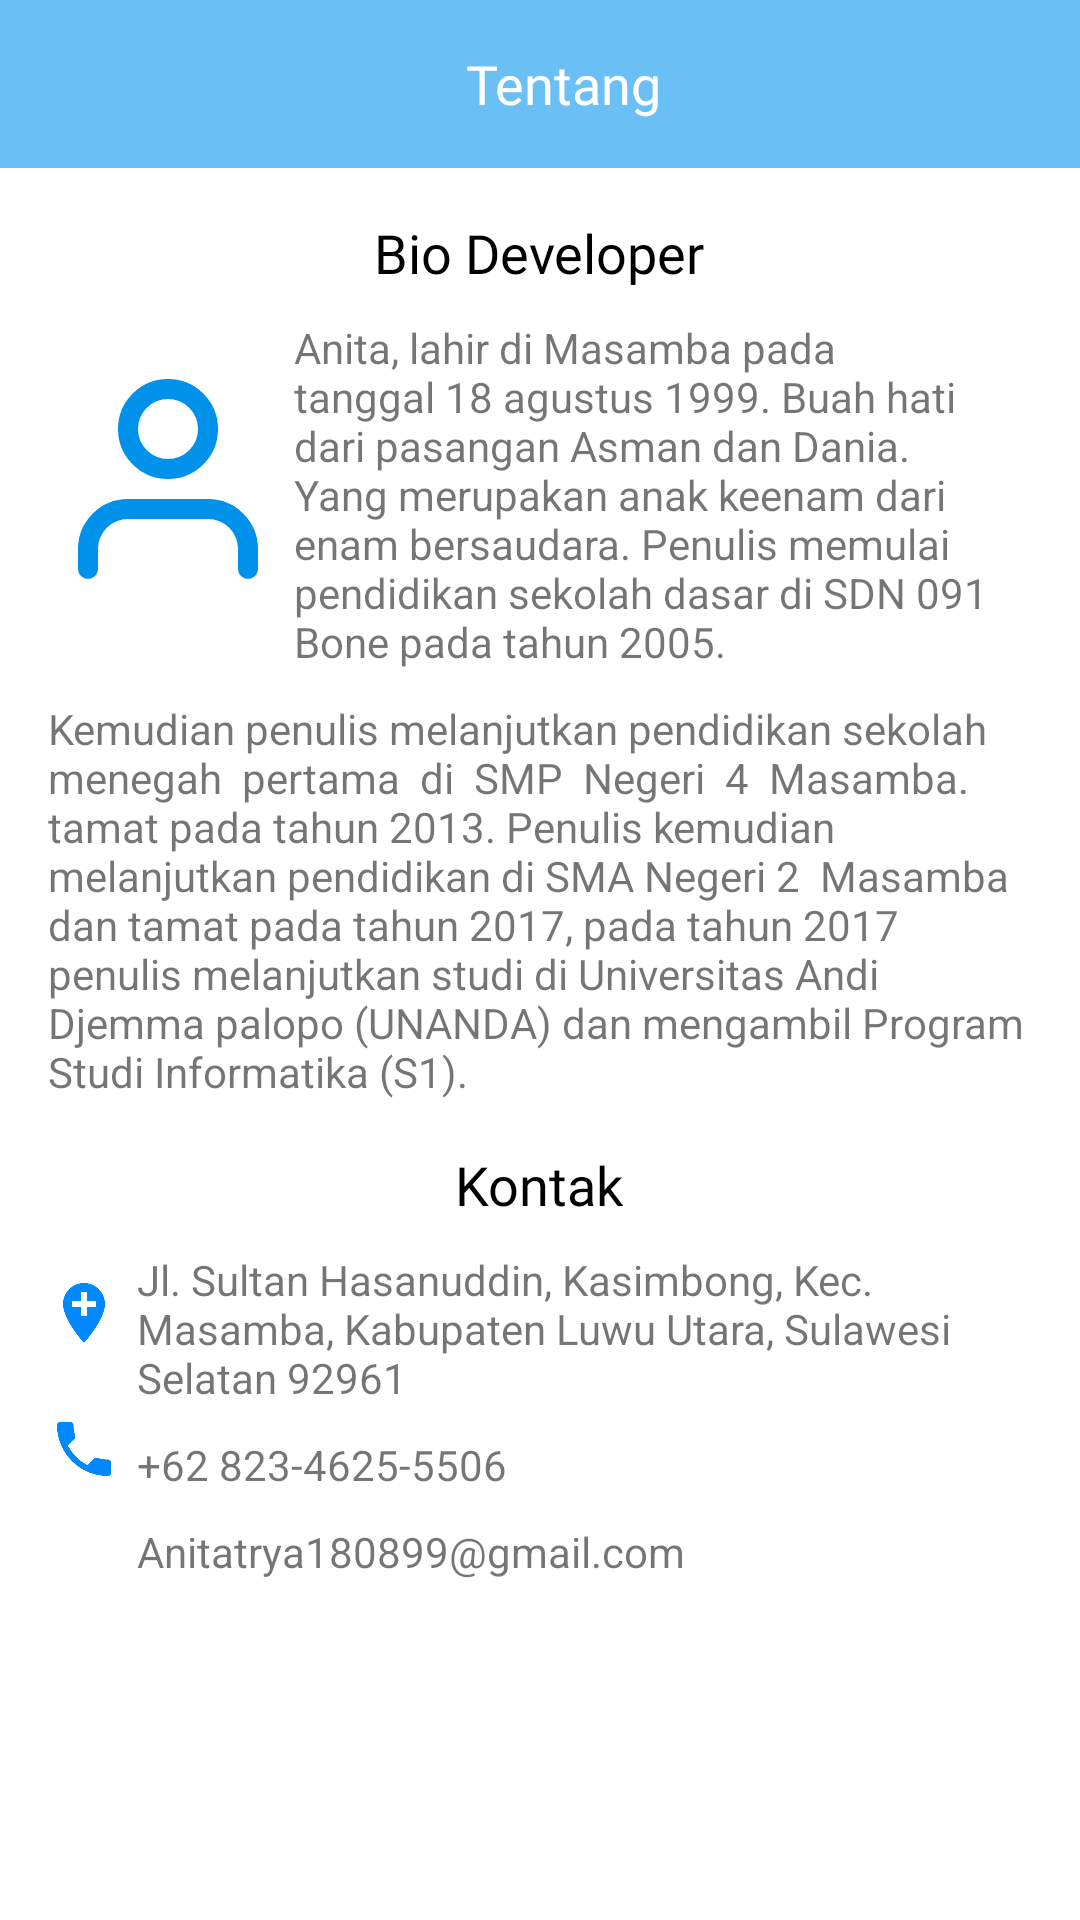

Where icons sit on this 1080px×1920px app screen, as (x1, y1, x2, y2):
add location: (63, 1283, 105, 1343)
local phone: (57, 1422, 111, 1476)
user: (78, 379, 258, 579)
